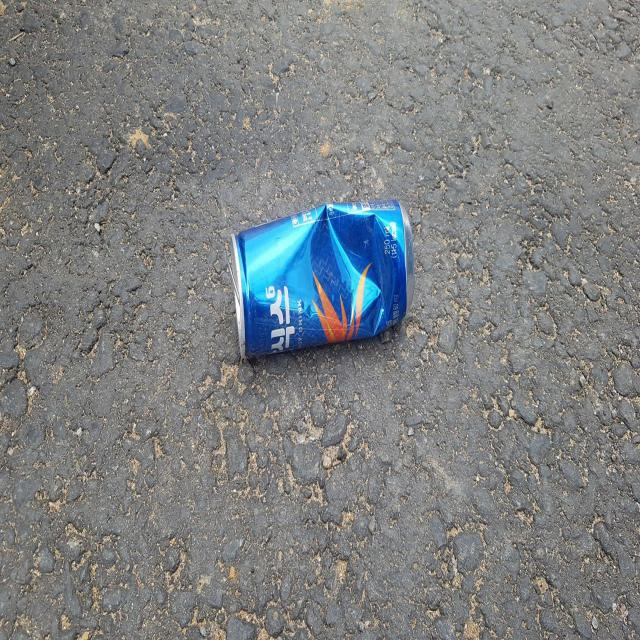can: (230, 199, 414, 358)
